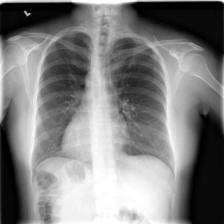normal: (31, 25, 178, 179)
